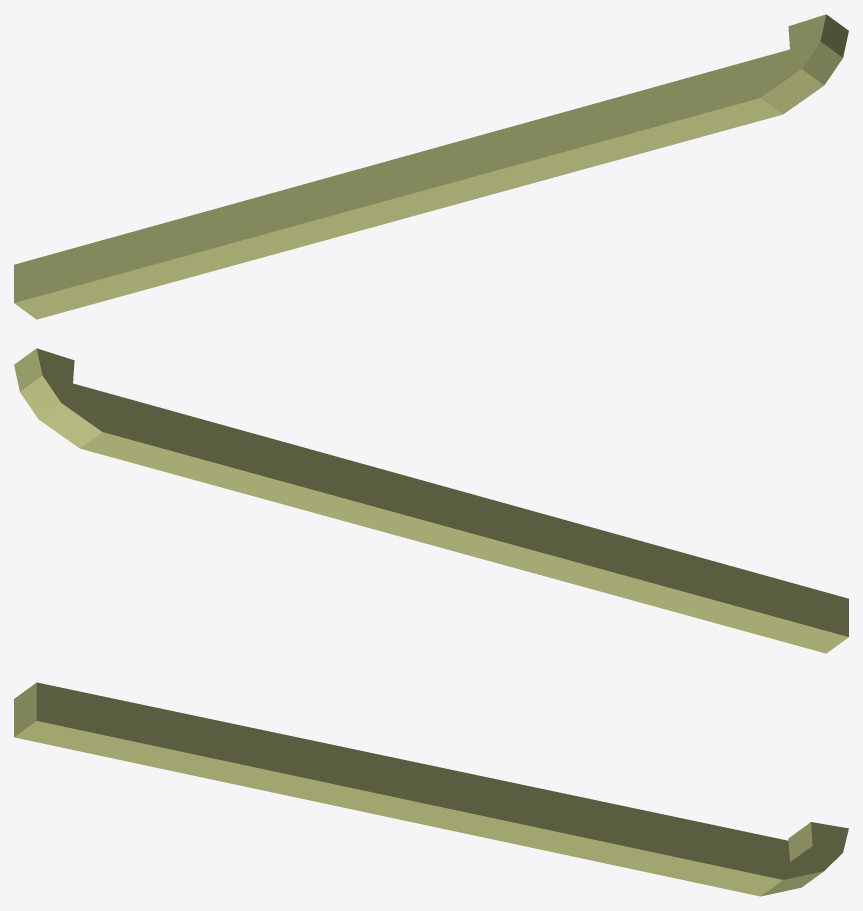
3 views of the same model, one above another, from view 1: azimuth 30°, elevation 25°; view 2: azimuth 150°, elevation 25°; view 3: azimuth 330°, elevation 25° (orthographic).
Parts seen in each view (by area): view 1: 0_0_3_1_3_2_2; view 2: 0_0_3_1_3_2_2; view 3: 0_0_3_1_3_2_2.
Part boxes in pixels (<box>): 0_0_3_1_3_2_2: <box>14,14,848,319</box>; 0_0_3_1_3_2_2: <box>14,348,848,653</box>; 0_0_3_1_3_2_2: <box>14,682,848,896</box>.
Size of the model in its own units: 124 by 13.26 by 6.
